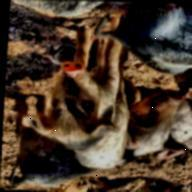boar: (12, 81, 189, 192), (33, 41, 145, 180)
